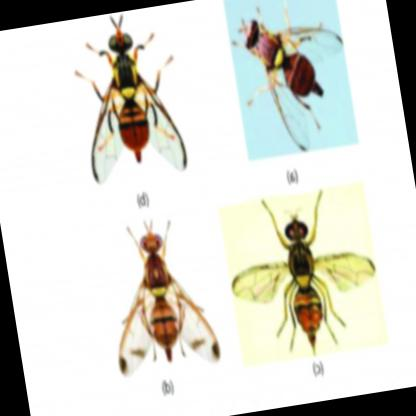fruit fly: (230, 219, 375, 354), (91, 17, 186, 186), (116, 232, 220, 376), (243, 18, 339, 151)
